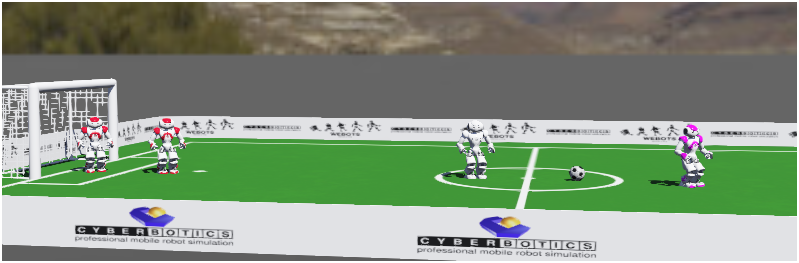Ball: (558, 156, 605, 192)
Goal: (1, 66, 138, 188)
Player: (662, 114, 724, 184), (133, 108, 198, 172), (447, 112, 503, 184), (63, 112, 118, 166)
